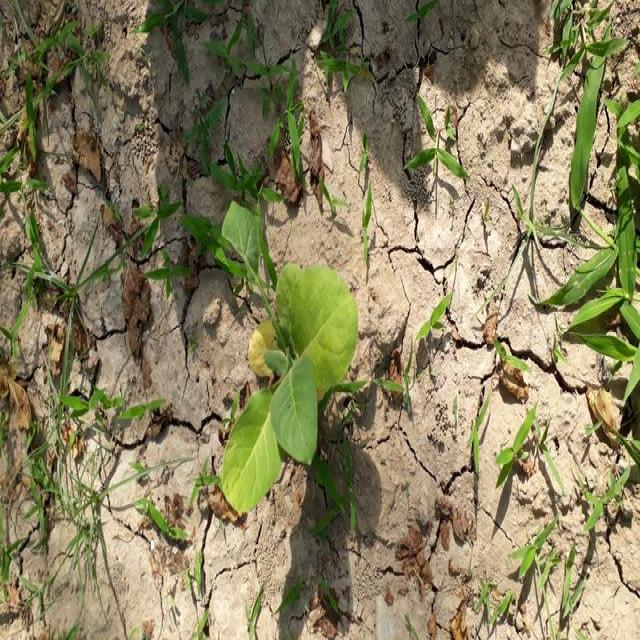crop: (222, 200, 356, 512)
